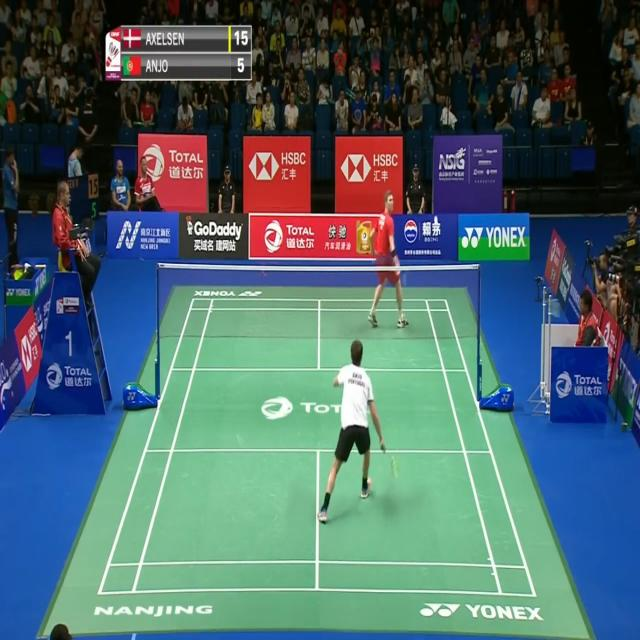Player1: (314, 333, 394, 535)
Player2: (364, 186, 412, 335)
